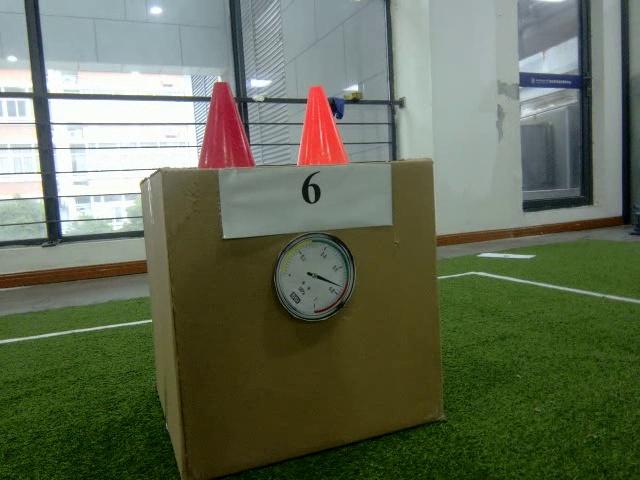6: (301, 171, 324, 206)
Dashboard: (273, 234, 358, 322)
orange_barrel: (299, 85, 354, 166)
red_barrel: (199, 81, 260, 167)
ssi: (287, 290, 305, 304)
